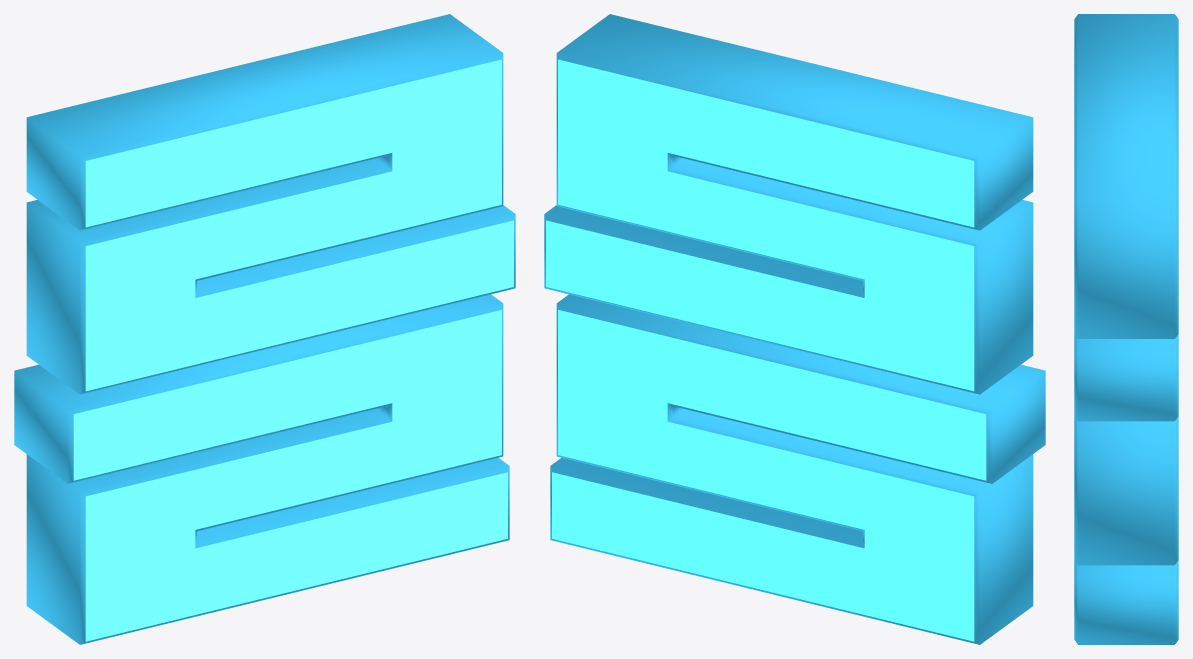
3 renders of one model, left to right at view 1: azimuth 30°, elevation 25°; view 2: azimuth 150°, elevation 25°; view 3: azimuth 270°, elevation 25°, orthographic. The views are drawn at different scales.
Visible parts, largest first — view 1: glyph; view 2: glyph; view 3: glyph.
Part boxes in pixels (x1,y1,x2,y2): glyph: (14,14,515,644); glyph: (544,14,1045,644); glyph: (1074,14,1178,644).
Bounding box in the file's own units: 0.0726 × 0.0757 × 0.0162.
